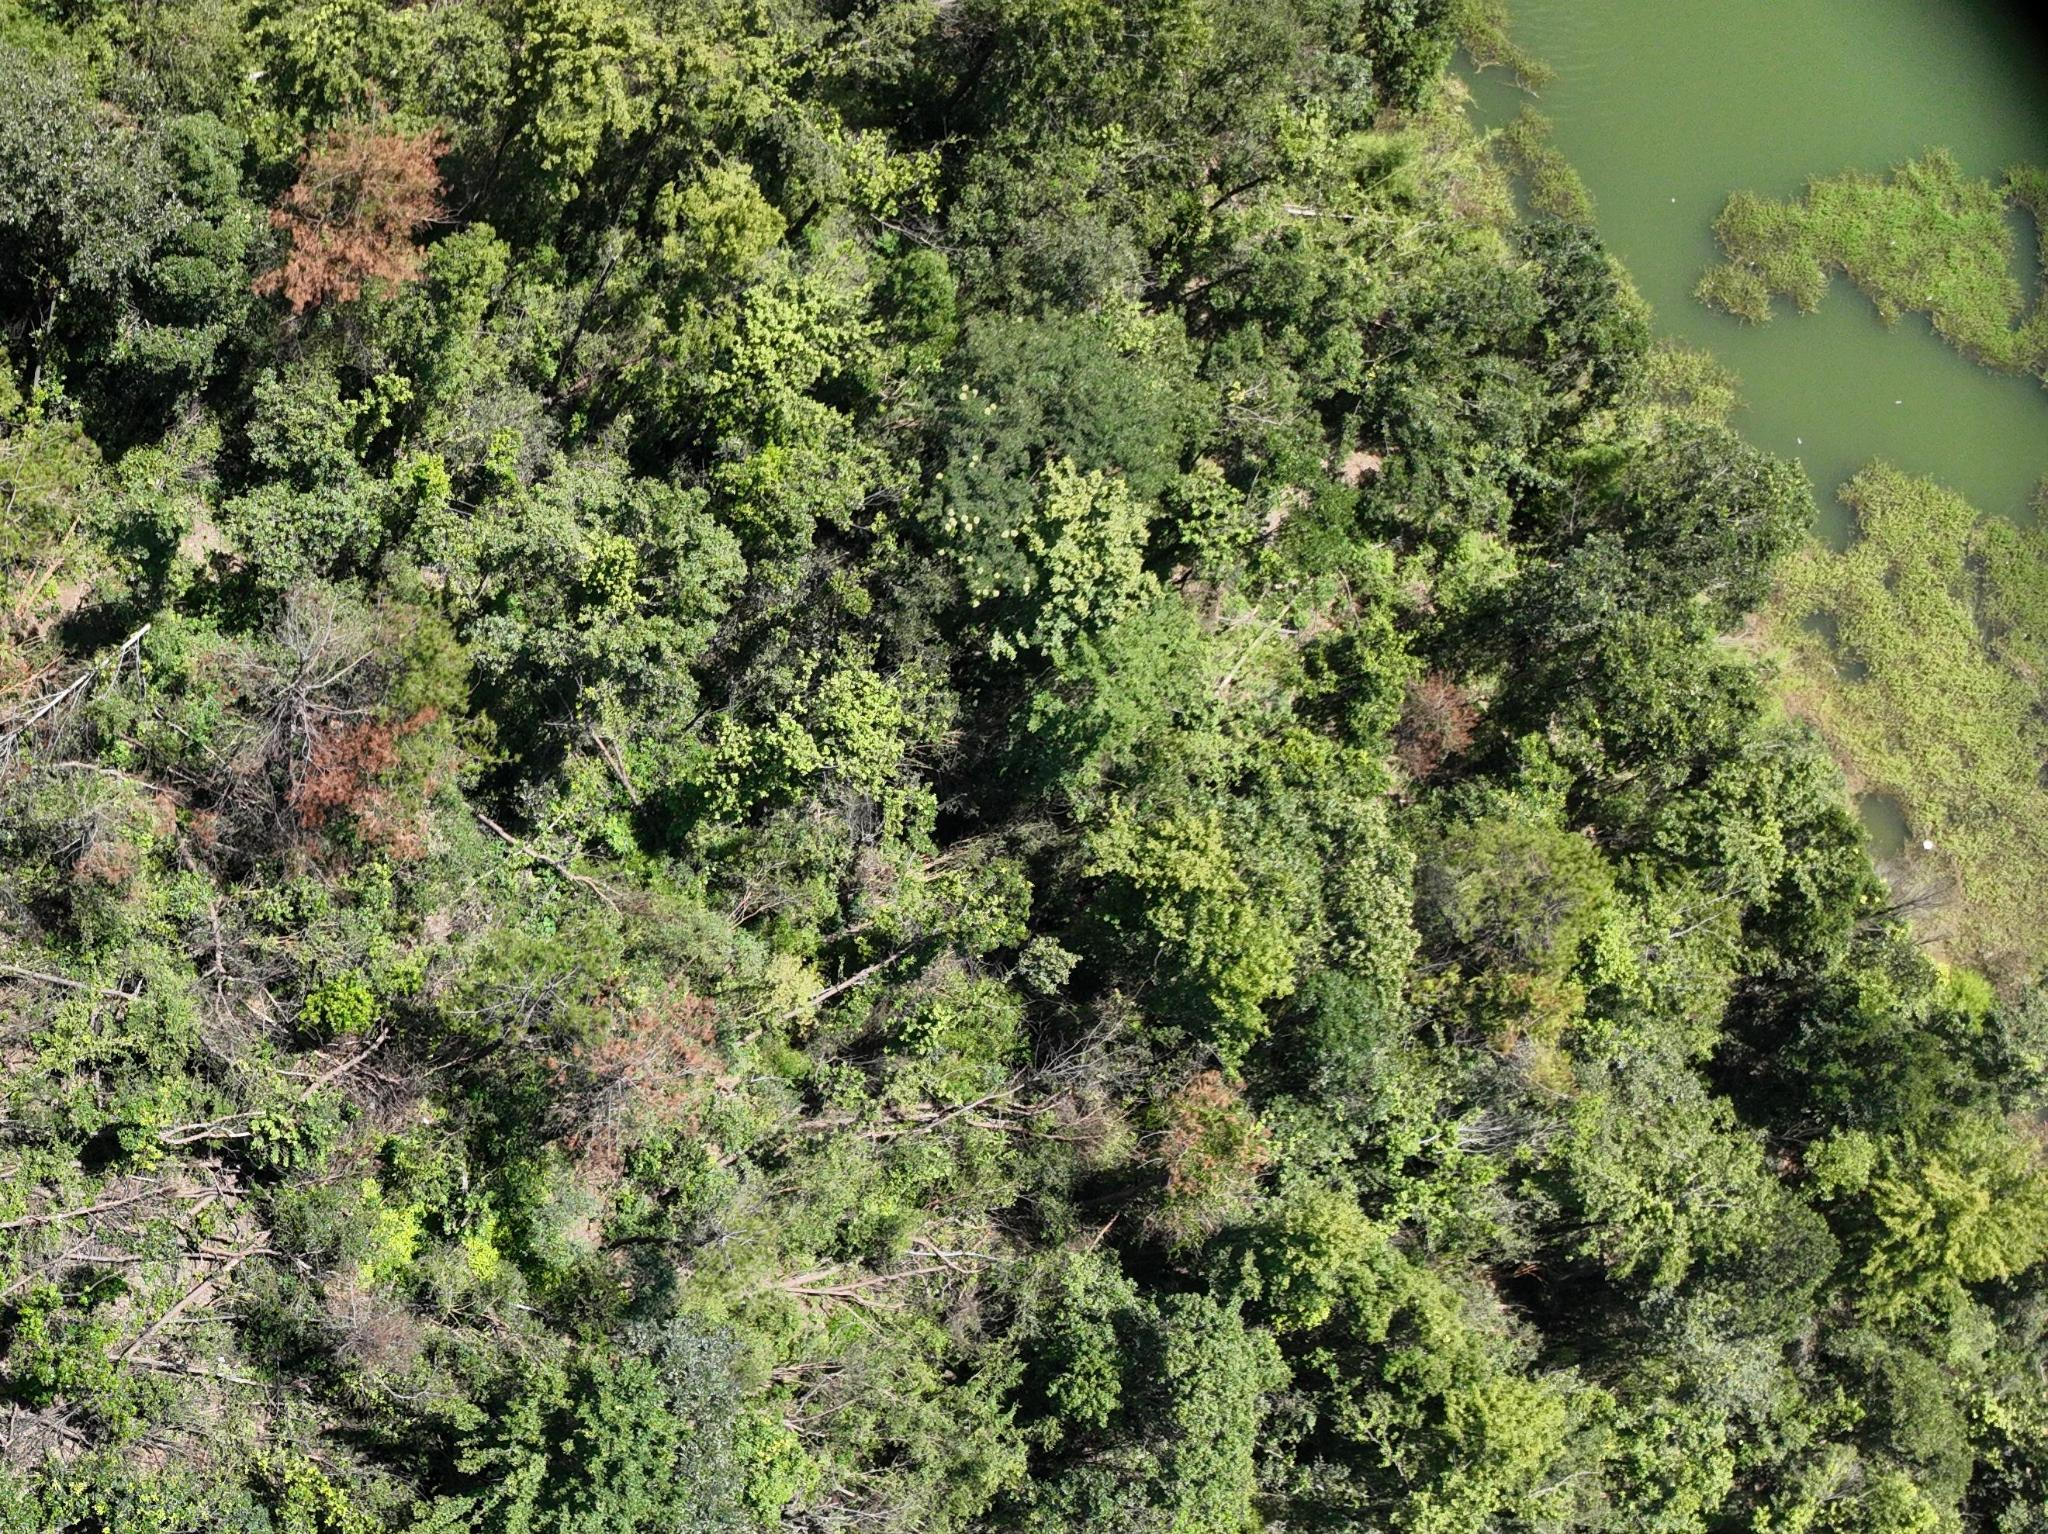heavy: (250, 116, 443, 314), (532, 994, 720, 1157), (293, 711, 425, 835), (1395, 667, 1474, 775)
light: (1159, 1068, 1271, 1249)
